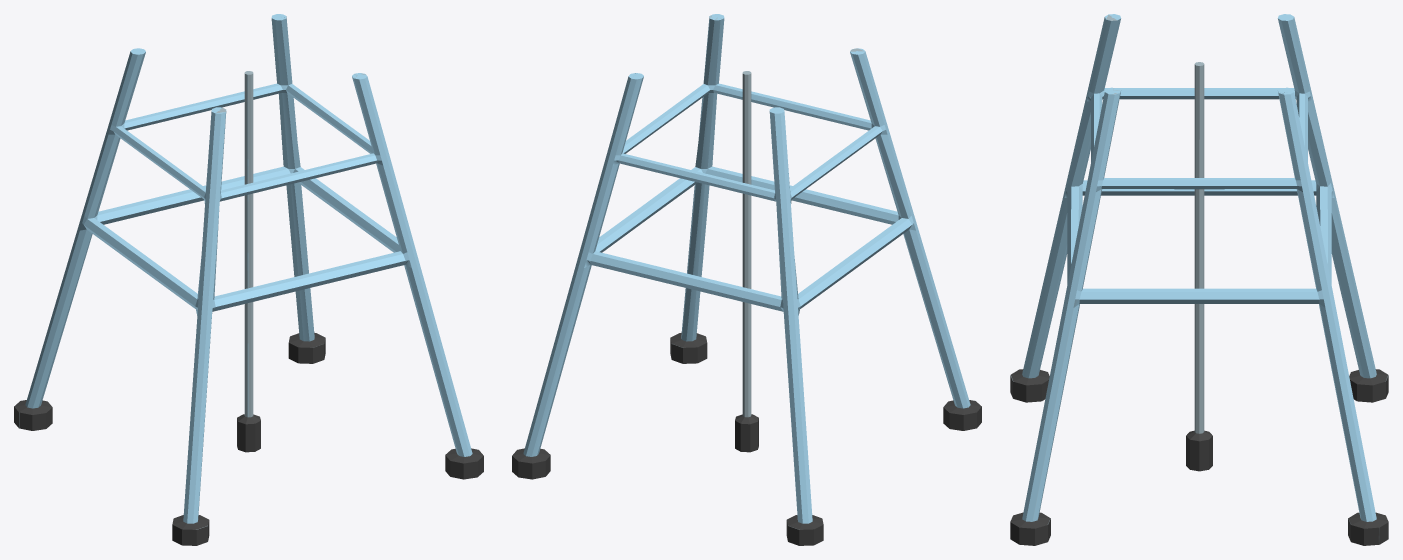
File: Water_tower_legs.glb
3 views of the same model, side by side, from view 1: azimuth 30°, elevation 25°; view 2: azimuth 150°, elevation 25°; view 3: azimuth 270°, elevation 25° (orthographic). The views are drawn at different scales.
Parts seen in each view (by area): view 1: Water_Tower_Legs; view 2: Water_Tower_Legs; view 3: Water_Tower_Legs.
Part boxes in pixels (bbox=[...]): Water_Tower_Legs: bbox=[14, 14, 483, 545]; Water_Tower_Legs: bbox=[512, 14, 981, 545]; Water_Tower_Legs: bbox=[1010, 14, 1388, 545].
Size of what is drawn, in the model's own units: 13.08 by 15.63 by 13.03.
Materials: 1 (1 with a texture image).
